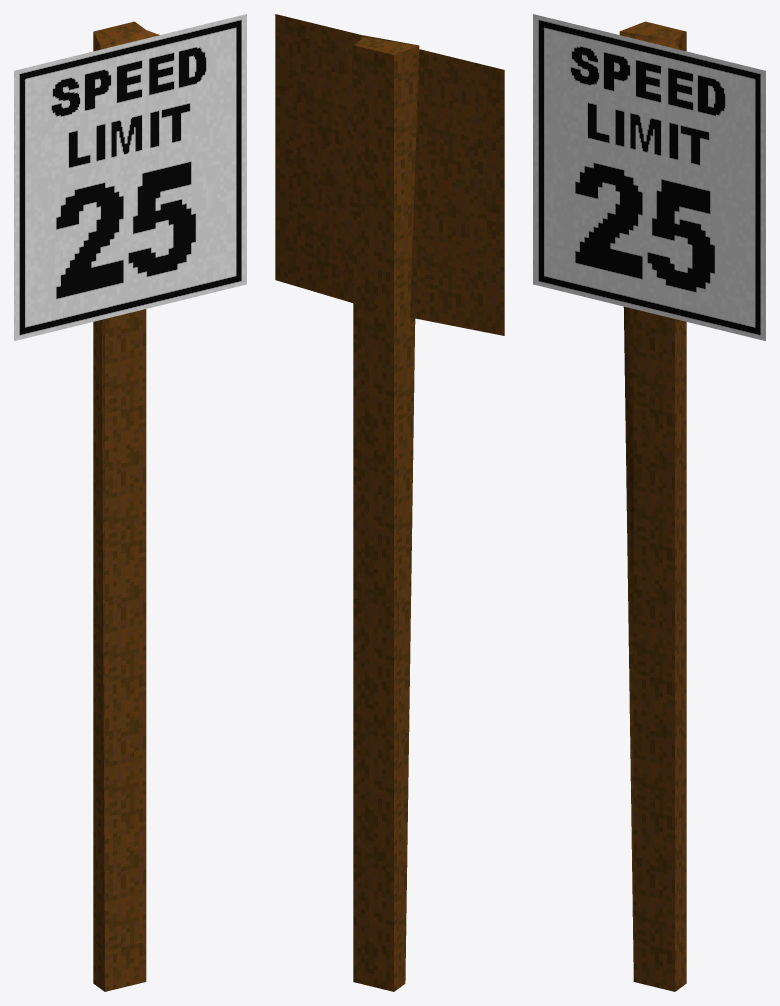
The model's file is BLOCKYGON_SPEED LIMIT(25).fbx.
The picture shows the model from 3 angles, left to right: view 1: azimuth 30°, elevation 25°; view 2: azimuth 150°, elevation 25°; view 3: azimuth 330°, elevation 25°; orthographic projection.
Visible parts, largest first — view 1: BLOCKYGON_SPEED_LIMIT_25_; view 2: BLOCKYGON_SPEED_LIMIT_25_; view 3: BLOCKYGON_SPEED_LIMIT_25_.
Boxes of the visible parts, x1,y1,x2,y2 form: BLOCKYGON_SPEED_LIMIT_25_: (14,14,246,991); BLOCKYGON_SPEED_LIMIT_25_: (275,14,504,991); BLOCKYGON_SPEED_LIMIT_25_: (533,14,765,991).
Size of the model in its own units: 60.49 by 236 by 7.44.
Materials: 2 (2 with a texture image).
